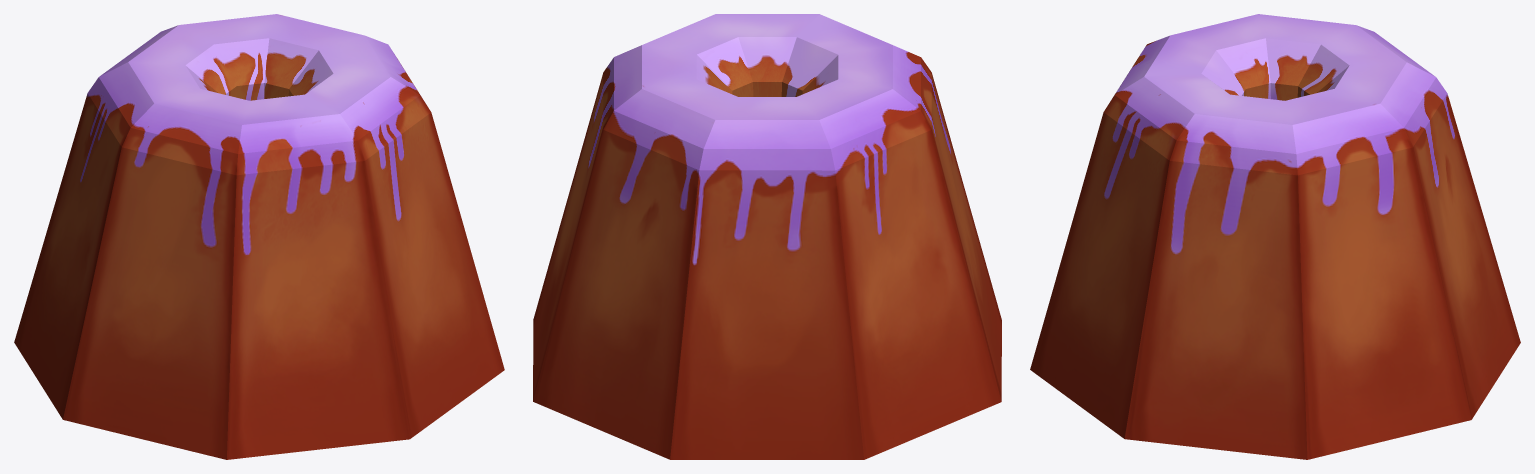
File: 2tier_1.glb
3 views of the same model, side by side, from view 1: azimuth 30°, elevation 25°; view 2: azimuth 150°, elevation 25°; view 3: azimuth 270°, elevation 25° (orthographic). The views are drawn at different scales.
Size of the model in its own units: 0.9945 by 0.6411 by 0.9945.
Materials: 1 (1 with a texture image).
